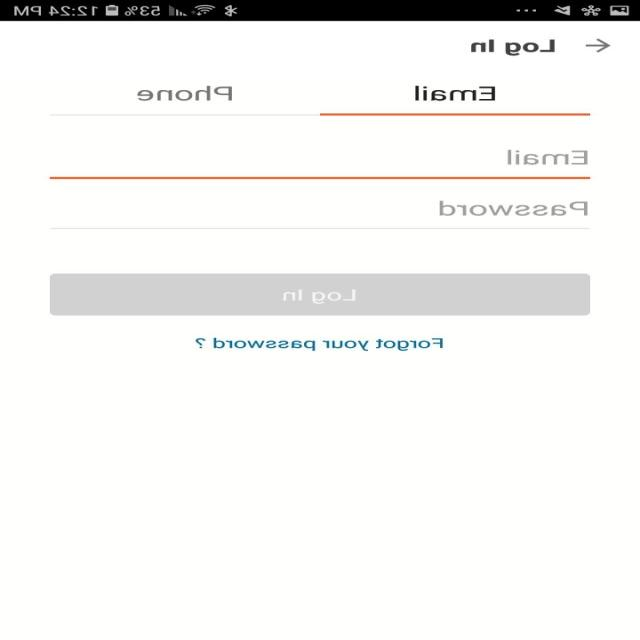EditText: (49, 200, 590, 230), (49, 149, 590, 179)
Icon: (585, 38, 611, 53)
Text: (195, 336, 444, 351), (439, 201, 589, 216), (138, 85, 234, 101), (471, 39, 556, 56), (415, 85, 496, 101), (508, 149, 588, 165)
TextButton: (49, 273, 590, 315)
